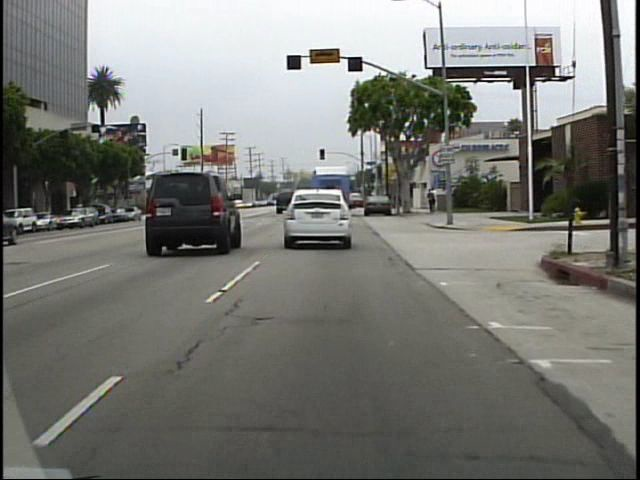person: (425, 187, 437, 216), (433, 187, 441, 213)
